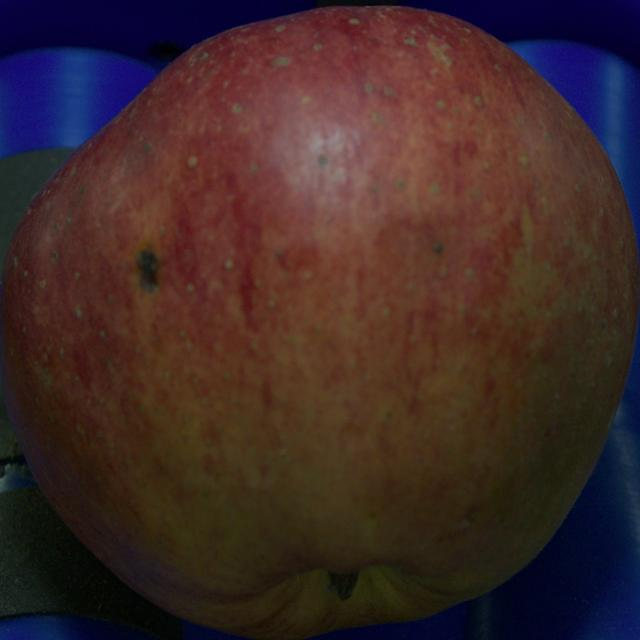apple: (0, 7, 639, 639)
pest: (136, 246, 158, 292)
